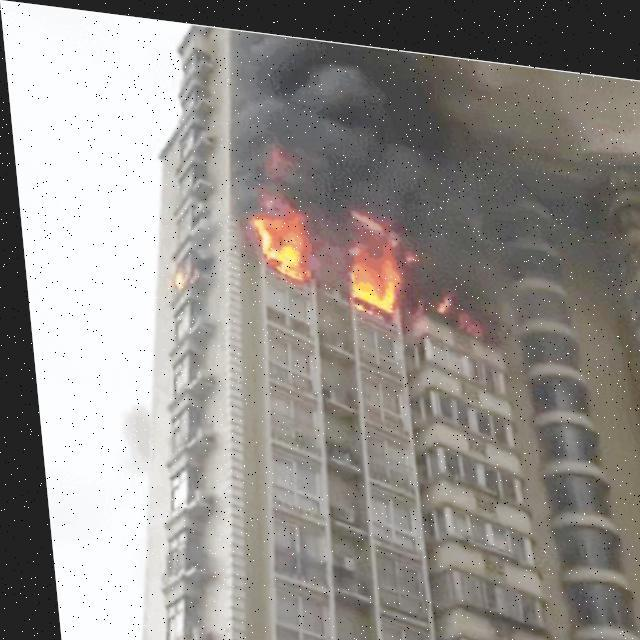Fire: (247, 181, 309, 279), (342, 215, 402, 309), (160, 254, 183, 291)
